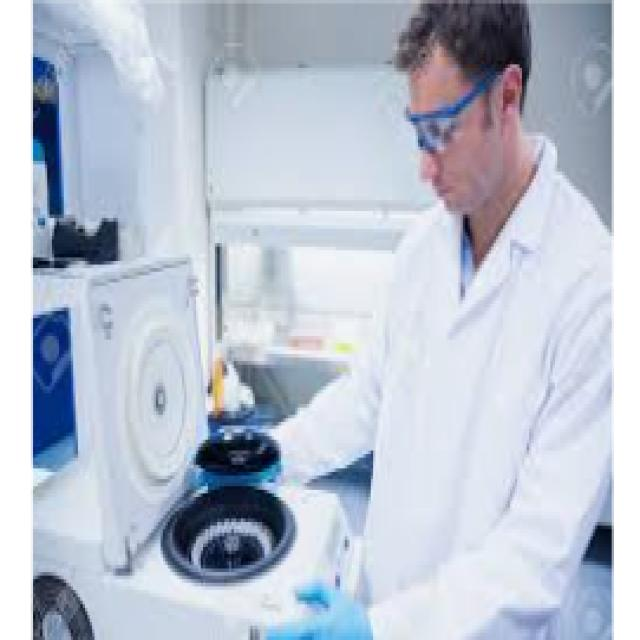glasses: (395, 86, 499, 152)
